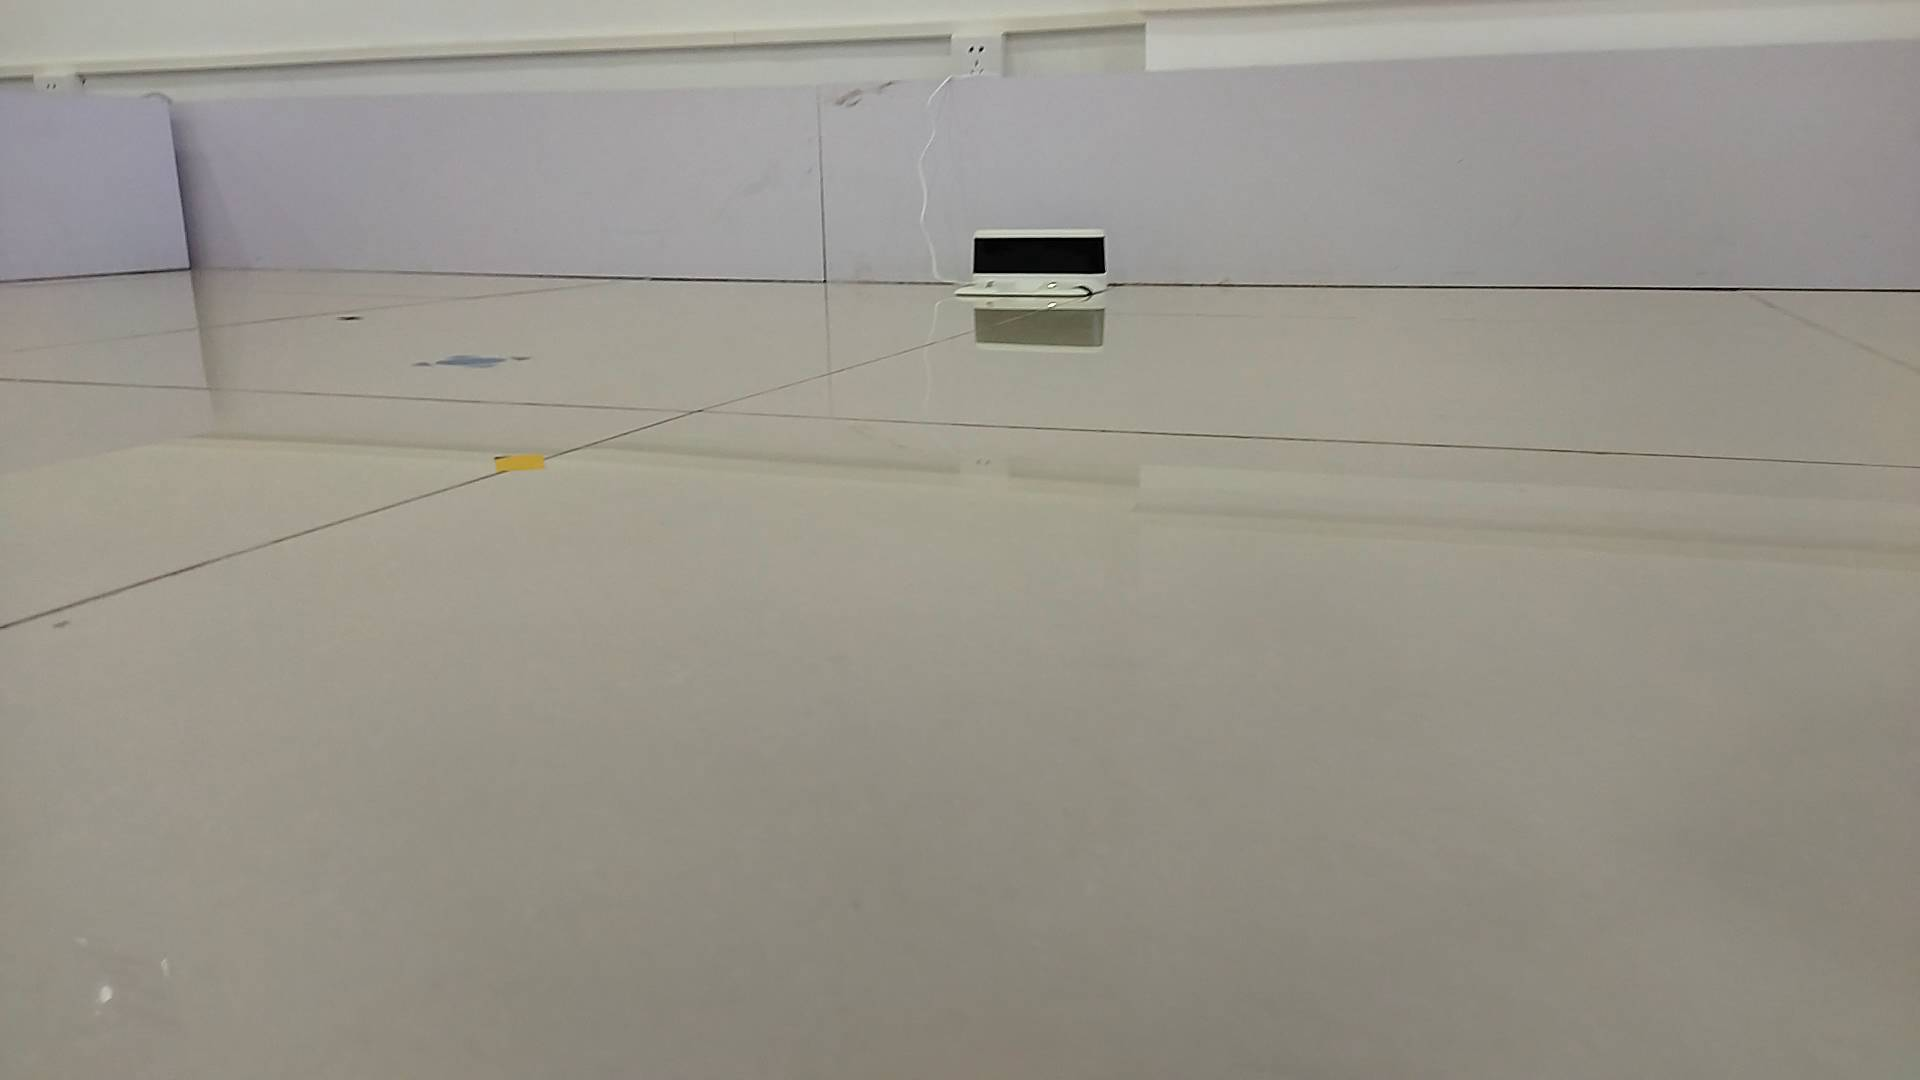recharge seat: (957, 225, 1117, 295)
